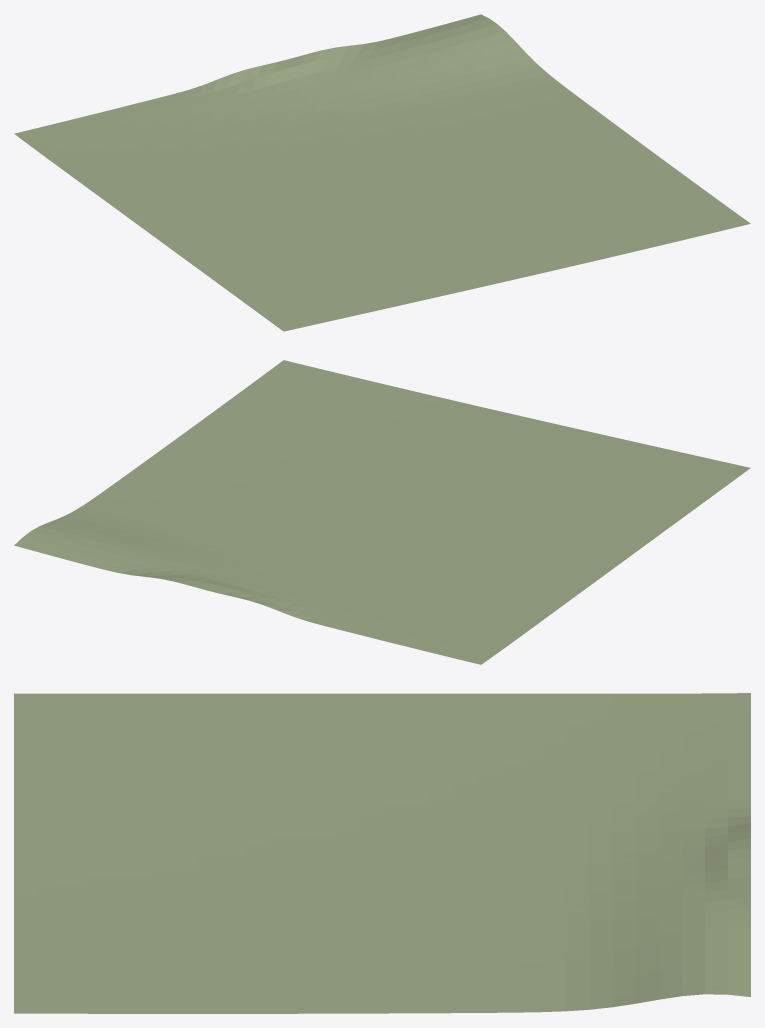
File: lunar-0-2.glb
3 views of the same model, one above another, from view 1: azimuth 30°, elevation 25°; view 2: azimuth 150°, elevation 25°; view 3: azimuth 270°, elevation 25° (orthographic). The views are drawn at different scales.
Visible parts, largest first — view 1: lunar-0-2; view 2: lunar-0-2; view 3: lunar-0-2.
Part boxes in pixels (x1=…): lunar-0-2: x1=14, y1=14, x2=750, y2=331; lunar-0-2: x1=14, y1=360, x2=750, y2=664; lunar-0-2: x1=14, y1=693, x2=750, y2=1013.
Bounding box in the file's own units: 128 × 4.01 × 128.
